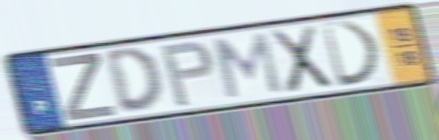D: (318, 19, 385, 91), (102, 45, 166, 115)
M: (210, 30, 285, 101)
P: (158, 38, 217, 110)
X: (267, 22, 336, 97)
Z: (47, 51, 120, 124)
